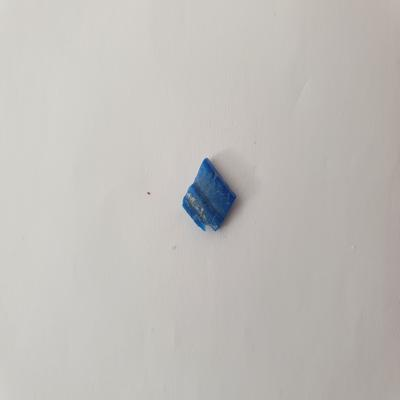plastic: (176, 154, 245, 239)
